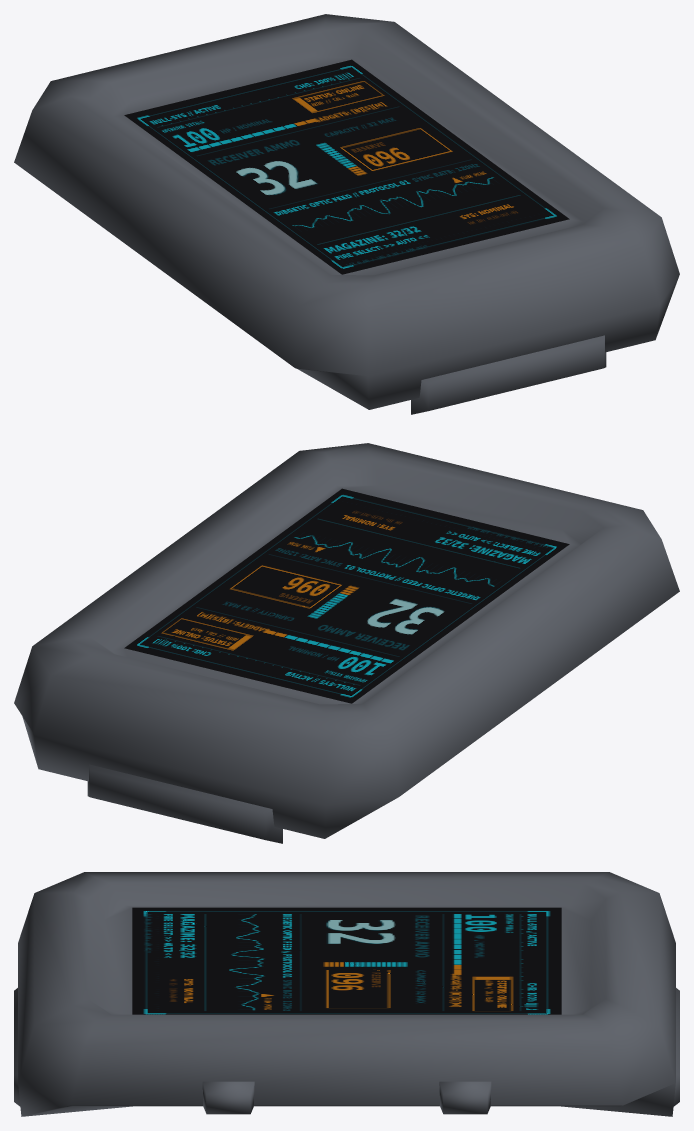
The model's file is CHR_OLED_WATCH.glb.
3 renders of one model, top to bottom at view 1: azimuth 30°, elevation 25°; view 2: azimuth 150°, elevation 25°; view 3: azimuth 270°, elevation 25°, orthographic.
Parts seen in each view (by area): view 1: SM_CHR_OLED_WATCH; view 2: SM_CHR_OLED_WATCH; view 3: SM_CHR_OLED_WATCH.
Boxes of the visible parts, bbox=[...] form: SM_CHR_OLED_WATCH: bbox=[14, 14, 679, 414]; SM_CHR_OLED_WATCH: bbox=[14, 443, 679, 843]; SM_CHR_OLED_WATCH: bbox=[14, 872, 679, 1116].
Size of the model in its own units: 0.0621 by 0.0205 by 0.09.
2 materials, 1 textured.
